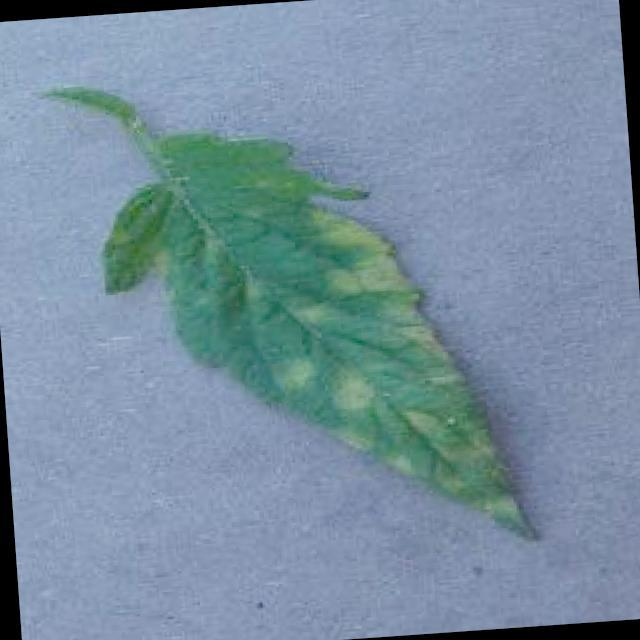Tomato mold leaf: (94, 110, 538, 573)
